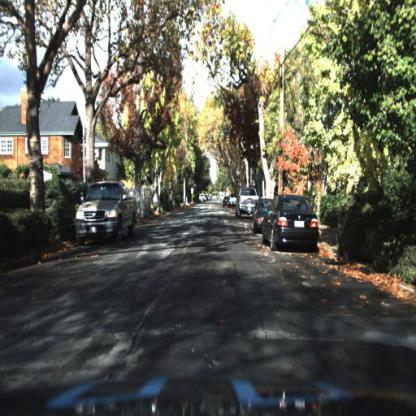car: (78, 184, 135, 254), (264, 192, 318, 250), (234, 184, 261, 223), (252, 197, 266, 237), (238, 187, 254, 219), (223, 199, 231, 213)
